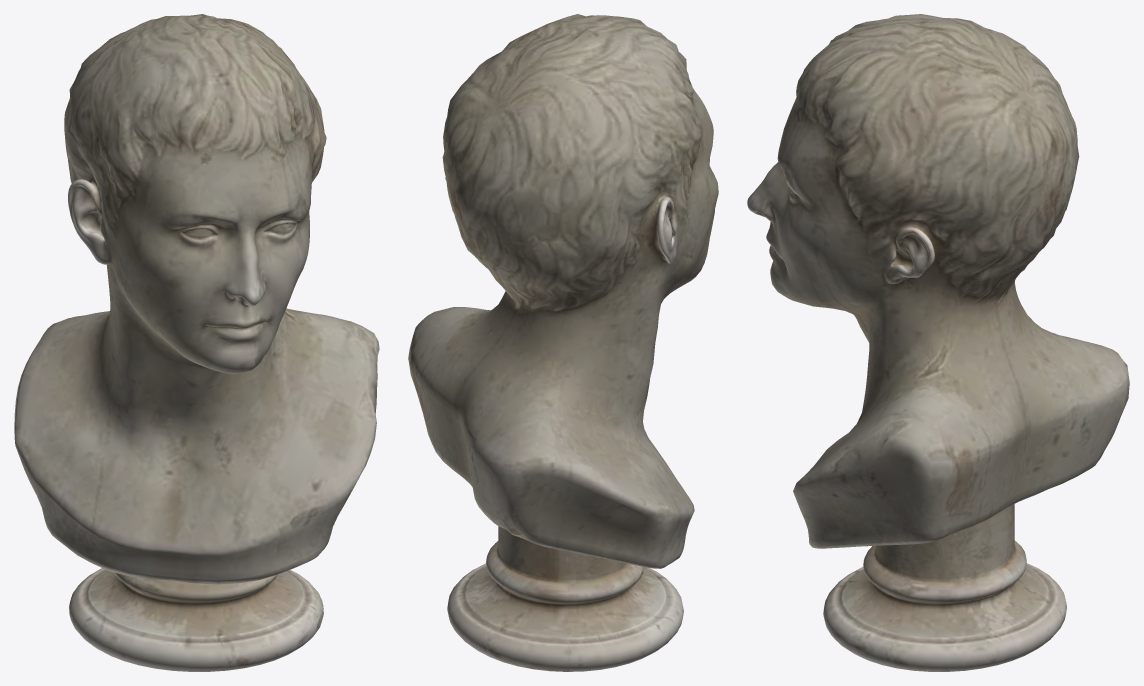
File: marble_bust_01.glb
The picture shows the model from 3 angles, left to right: view 1: azimuth 30°, elevation 25°; view 2: azimuth 150°, elevation 25°; view 3: azimuth 270°, elevation 25°; orthographic projection. The views are drawn at different scales.
Parts seen in each view (by area): view 1: marble_bust_01; view 2: marble_bust_01; view 3: marble_bust_01.
Part boxes in pixels (x1=…): marble_bust_01: x1=14, y1=14, x2=379, y2=671; marble_bust_01: x1=408, y1=14, x2=718, y2=671; marble_bust_01: x1=747, y1=14, x2=1129, y2=671.
Bounding box in the file's own units: 0.2717 × 0.5149 × 0.2997.
1 material, 1 textured.
